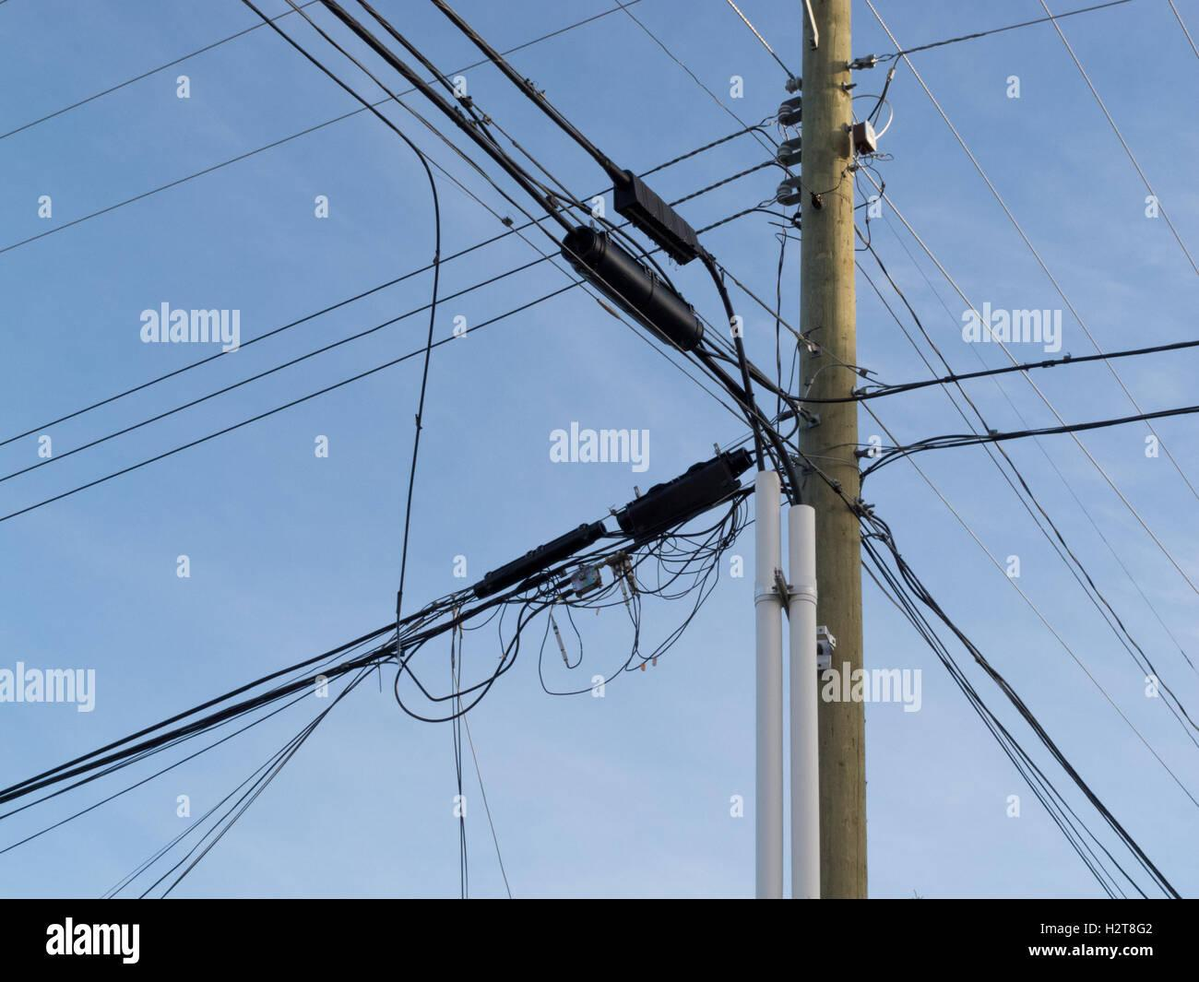wires: (10, 3, 791, 894)
